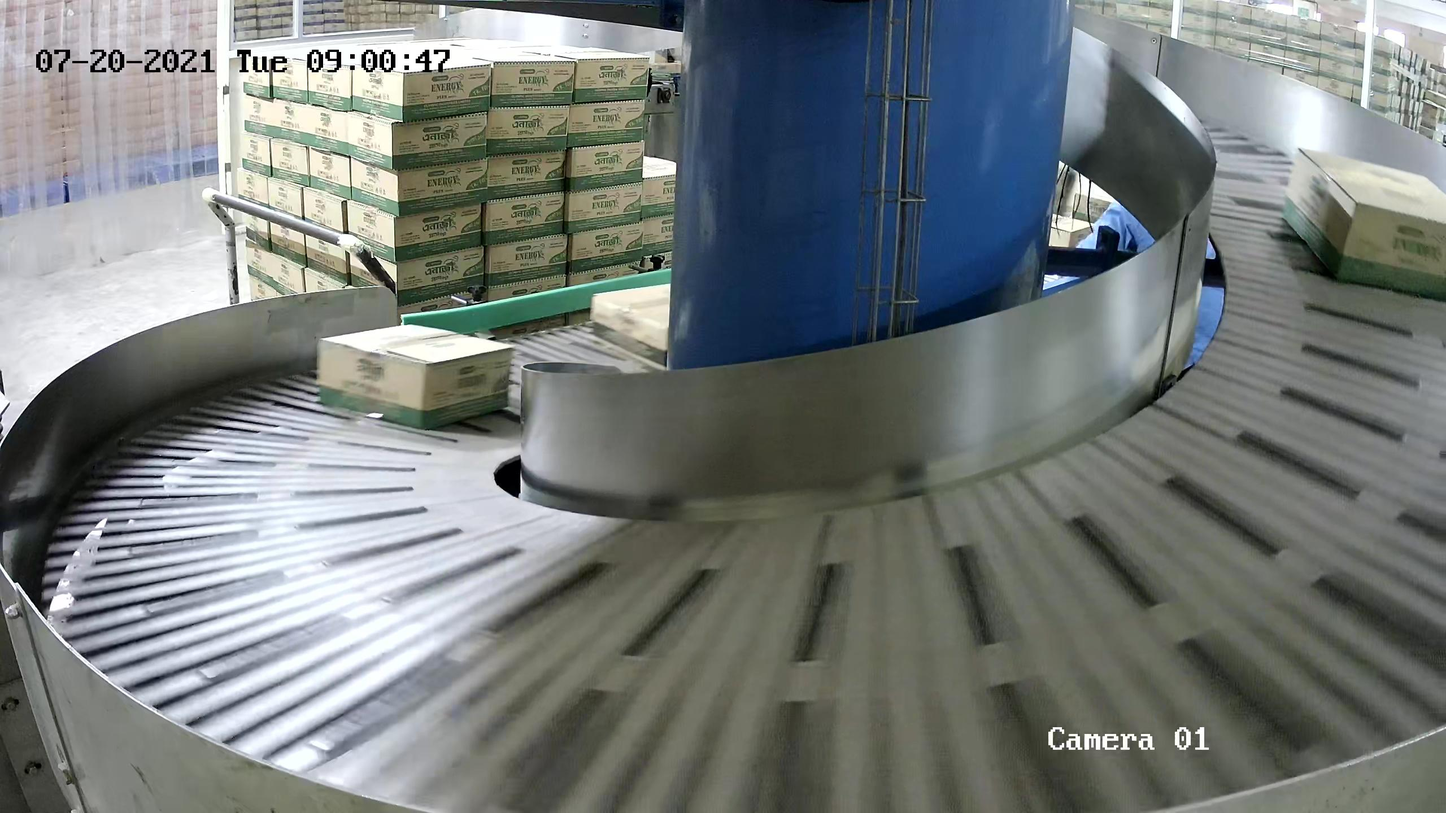Box: (1282, 148, 1446, 301), (317, 321, 515, 431), (589, 270, 781, 372)
